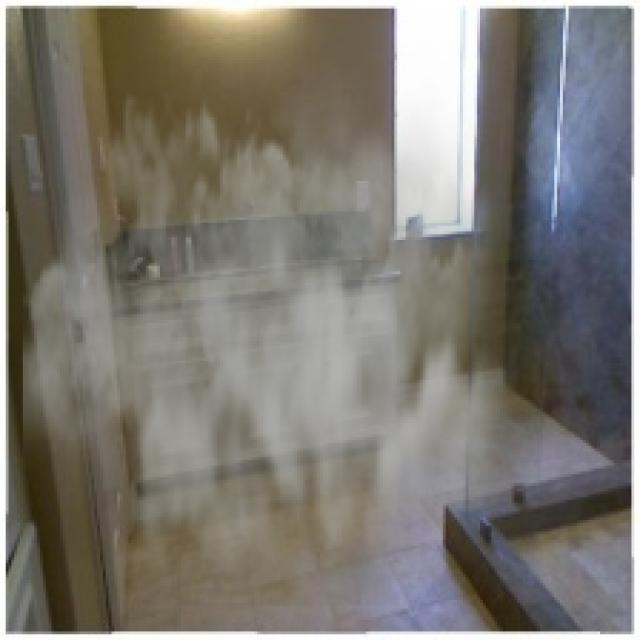smoke: (23, 40, 540, 606)
